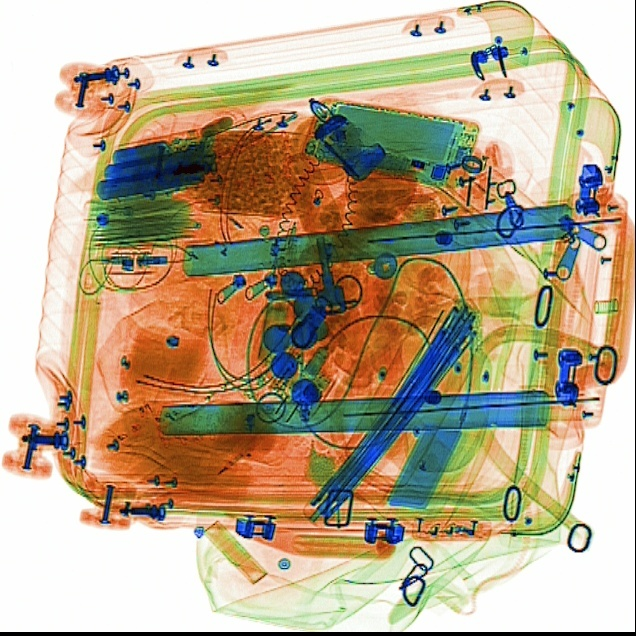powerbank: (95, 127, 224, 199)
